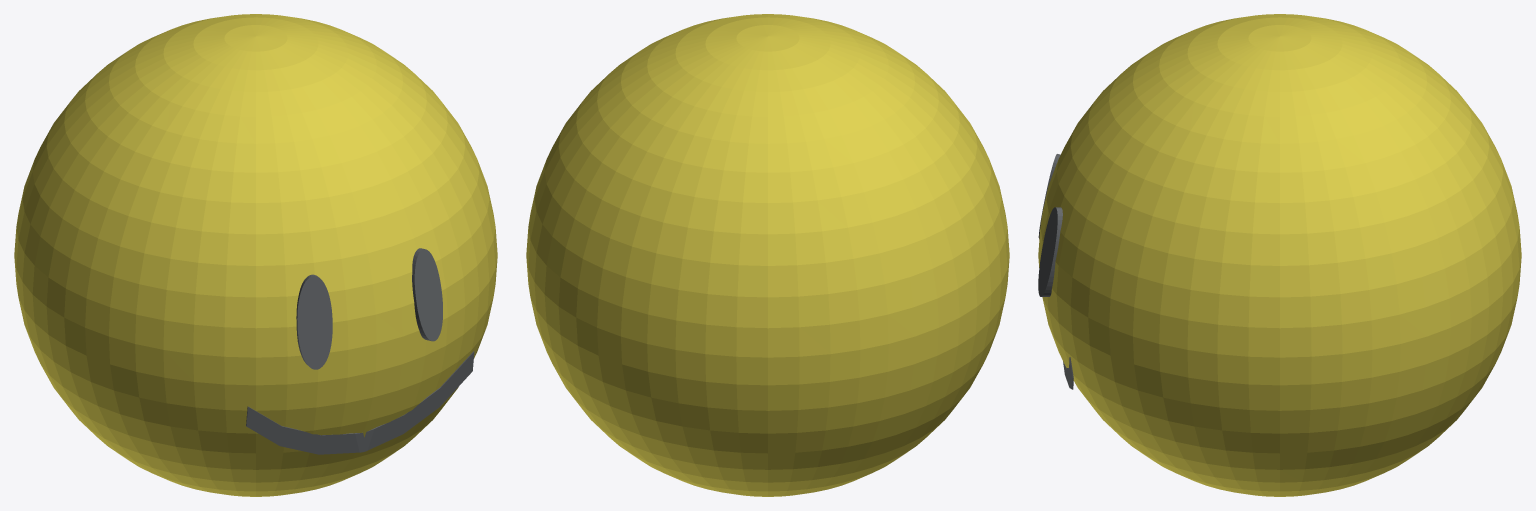
The model's file is asset.glb.
3 renders of one model, left to right at view 1: azimuth 30°, elevation 25°; view 2: azimuth 150°, elevation 25°; view 3: azimuth 270°, elevation 25°, orthographic.
Visible parts, largest first — view 1: Mesh_Mesh_head_geo.001_lambert2SG.001; view 2: Mesh_Mesh_head_geo.001_lambert2SG.001; view 3: Mesh_Mesh_head_geo.001_lambert2SG.001.
Part boxes in pixels (x1=…): Mesh_Mesh_head_geo.001_lambert2SG.001: x1=14, y1=14, x2=497, y2=496; Mesh_Mesh_head_geo.001_lambert2SG.001: x1=526, y1=14, x2=1009, y2=496; Mesh_Mesh_head_geo.001_lambert2SG.001: x1=1038, y1=14, x2=1521, y2=496.
Bounding box in the file's own units: 100 × 100 × 100.
